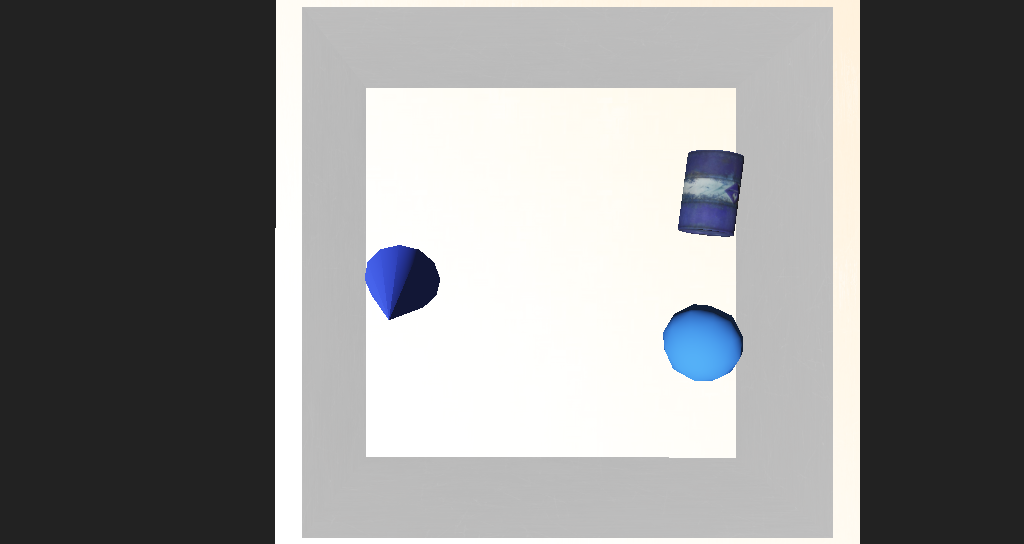cone: (610, 198, 670, 251)
cylinder: (340, 255, 414, 317)
sphere: (593, 289, 660, 332)
